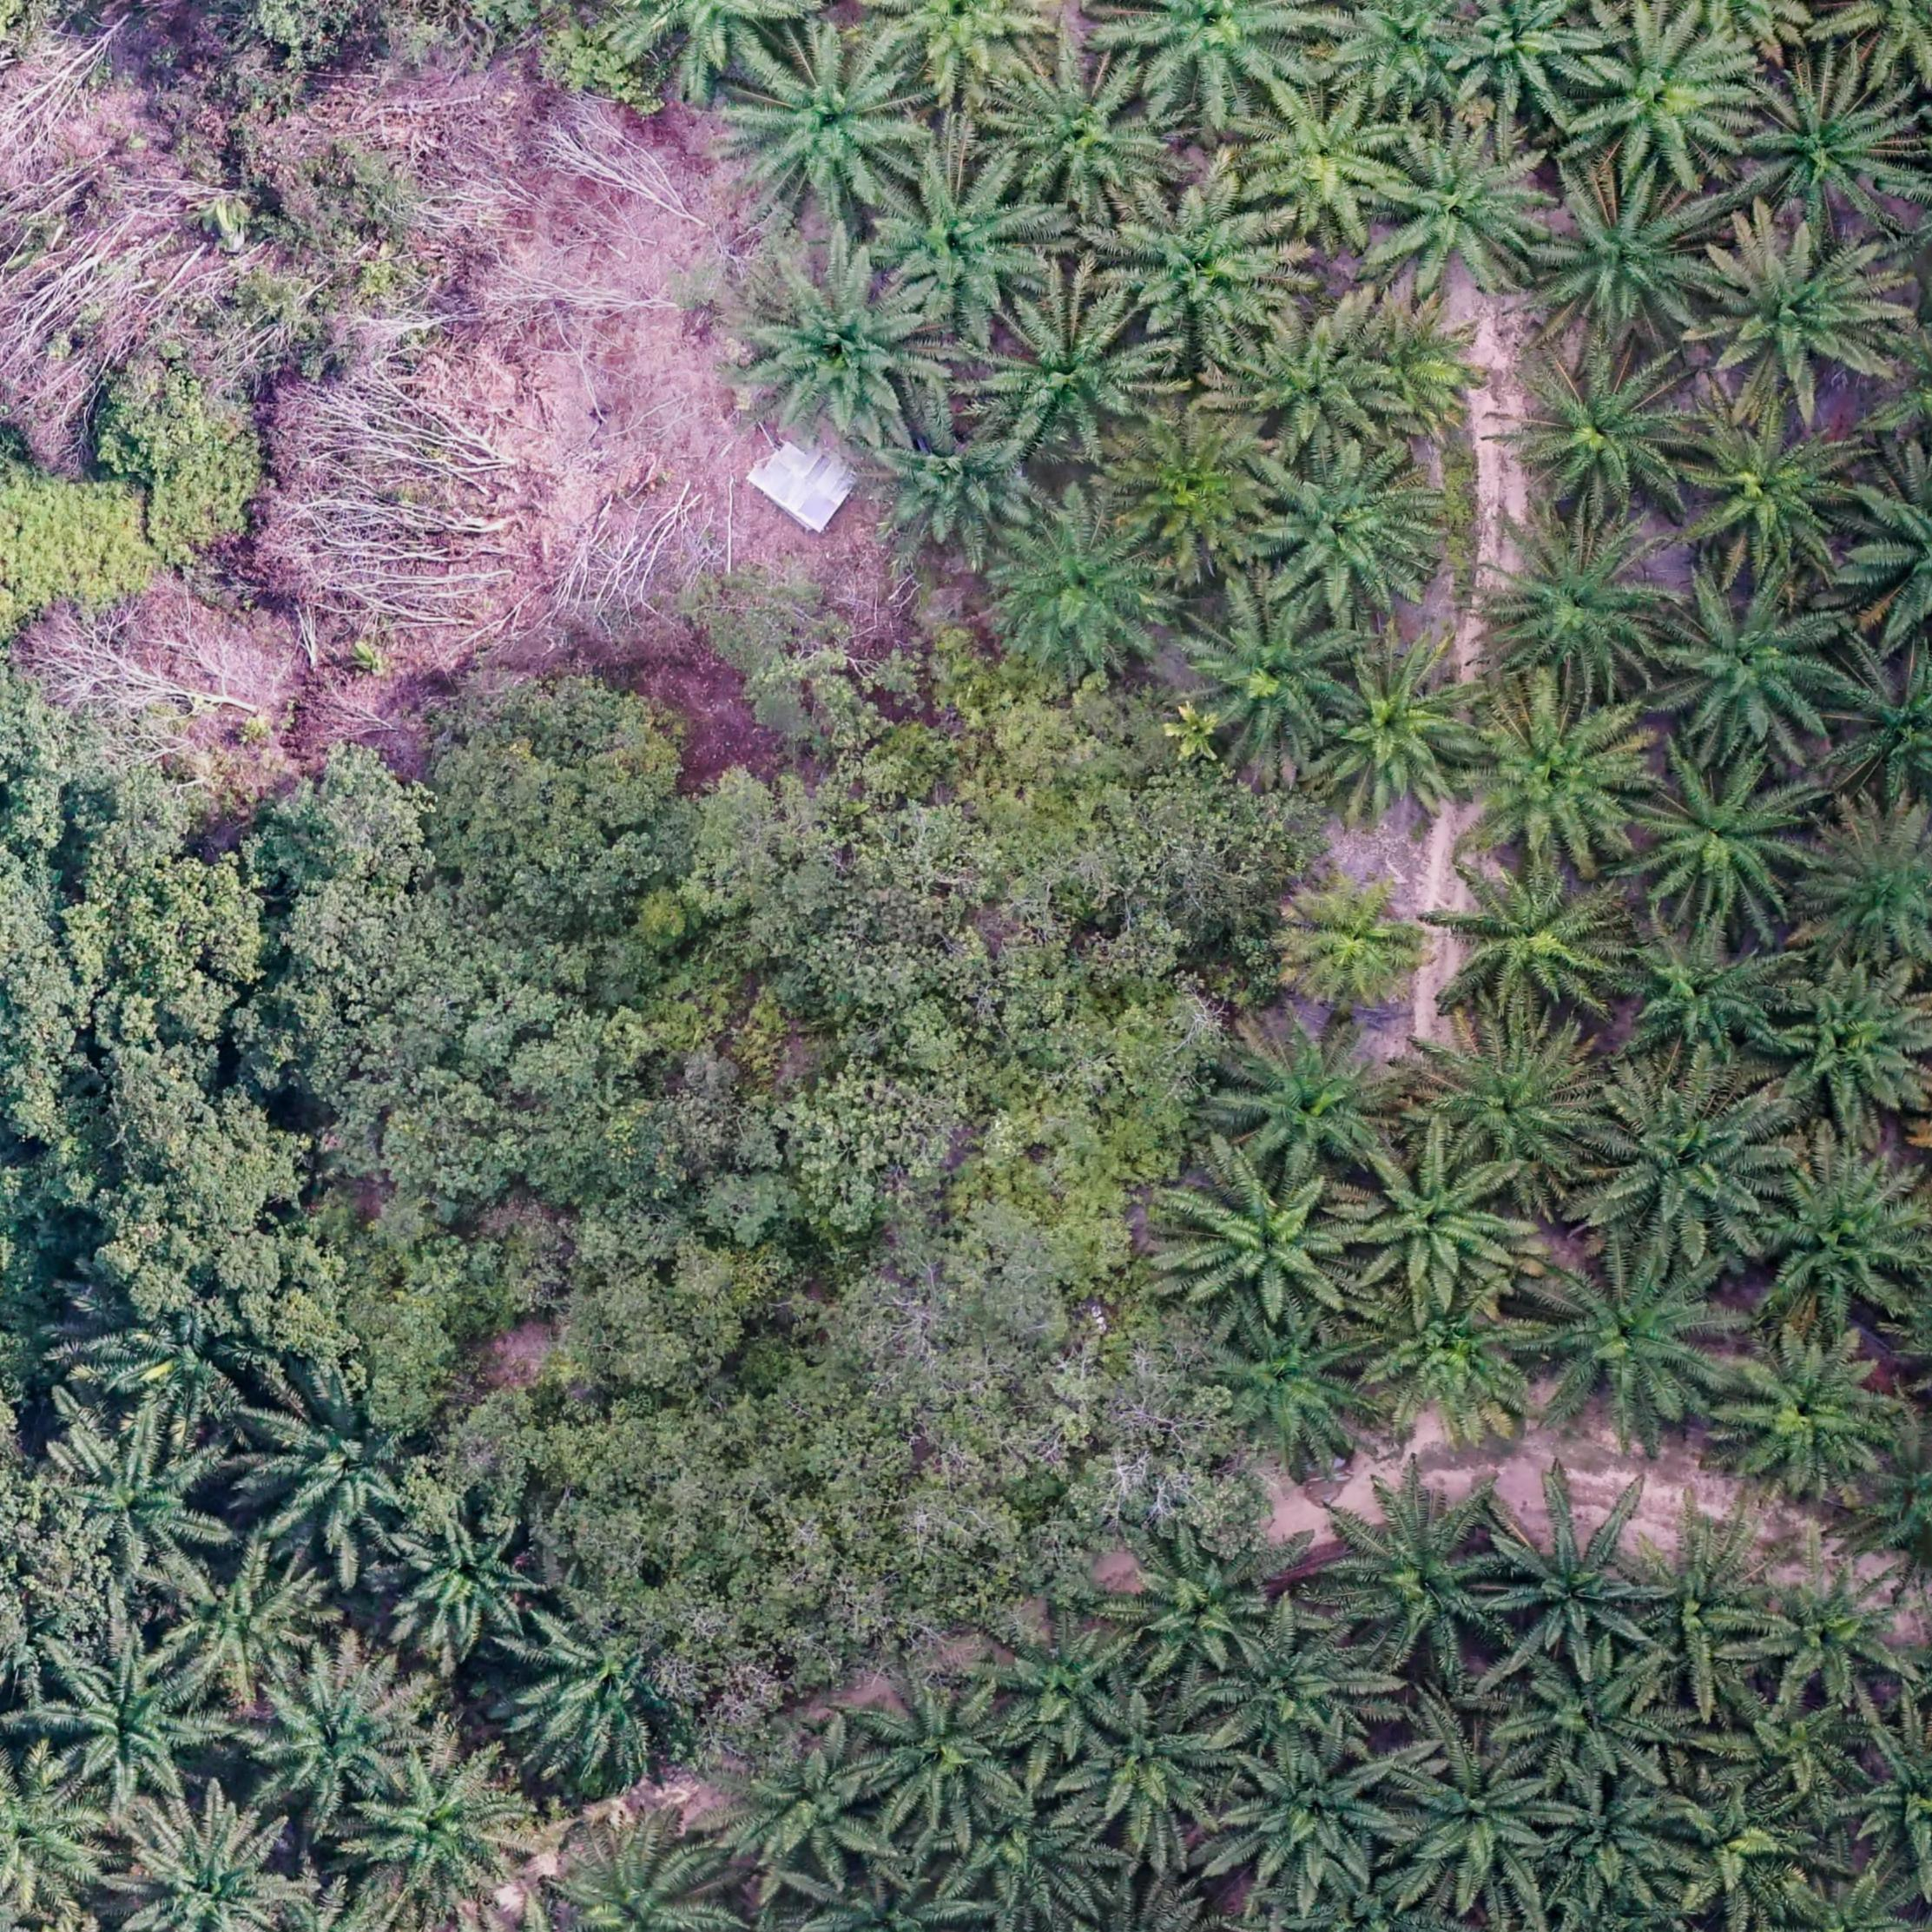palmtree: (1522, 1249, 1743, 1451), (1583, 1070, 1796, 1267), (738, 255, 950, 449), (235, 1373, 442, 1571), (1698, 223, 1902, 412), (1651, 575, 1851, 764), (1323, 1484, 1518, 1677), (41, 1628, 235, 1819), (982, 495, 1182, 681), (736, 35, 929, 226), (1681, 405, 1879, 591), (1461, 690, 1663, 872), (1488, 513, 1684, 699), (1527, 170, 1729, 350), (1504, 340, 1706, 520), (1714, 1322, 1911, 1506), (1415, 1016, 1615, 1194), (1369, 126, 1560, 310), (1629, 754, 1824, 934), (1256, 444, 1451, 625), (1562, 11, 1755, 191), (1313, 640, 1495, 828), (1215, 1016, 1410, 1191), (1341, 1277, 1545, 1444), (1750, 1150, 1930, 1336), (872, 154, 1058, 334), (1734, 58, 1918, 239), (51, 1419, 237, 1598), (237, 1652, 426, 1828), (347, 1744, 538, 1918), (1173, 1164, 1366, 1336), (508, 1606, 694, 1783), (1177, 586, 1362, 761), (1621, 1522, 1792, 1707), (1109, 189, 1297, 359), (1442, 858, 1631, 1026), (1488, 1499, 1668, 1674), (1217, 1739, 1408, 1904), (1392, 1729, 1568, 1907), (862, 403, 1049, 570), (711, 1730, 901, 1895), (1757, 962, 1932, 1136), (1200, 1309, 1382, 1476), (982, 294, 1166, 458), (1610, 913, 1799, 1072), (1341, 1134, 1523, 1299), (998, 53, 1169, 216), (1109, 418, 1286, 575), (1748, 1555, 1918, 1714), (382, 1506, 556, 1661), (860, 1674, 1028, 1833), (60, 1290, 230, 1447), (1247, 85, 1415, 241), (1116, 1530, 1284, 1686), (1072, 1688, 1242, 1842), (1106, 0, 1320, 119), (1656, 1771, 1821, 1925), (947, 1771, 1113, 1923), (1283, 863, 1449, 1016), (1233, 311, 1401, 460), (1513, 1649, 1681, 1798), (1208, 1624, 1378, 1766), (113, 1806, 303, 1932), (163, 1552, 324, 1695), (1534, 1771, 1693, 1913), (987, 1617, 1146, 1757), (0, 1757, 126, 1928), (1805, 807, 1932, 975), (1445, 0, 1608, 127), (867, 0, 1060, 104), (1320, 0, 1486, 120), (1716, 1677, 1872, 1805), (550, 1829, 732, 1932), (1842, 451, 1932, 655), (1361, 294, 1486, 435), (1828, 644, 1932, 810), (1845, 1716, 1932, 1881)
